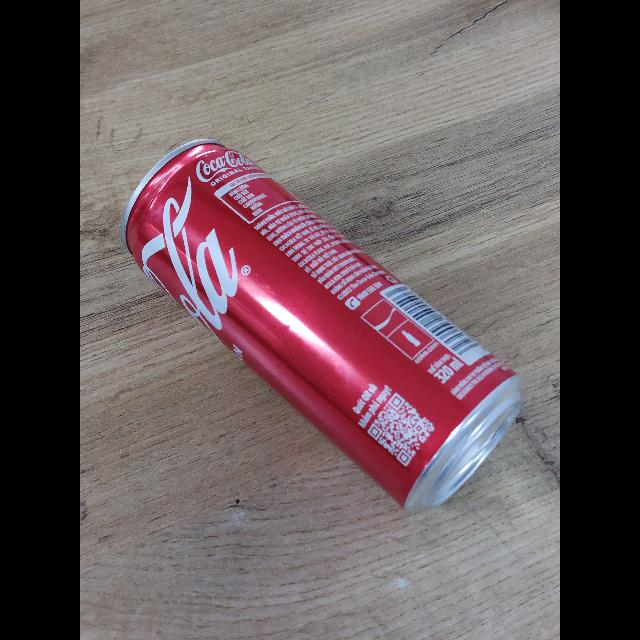coca_cola: (123, 140, 524, 515)
